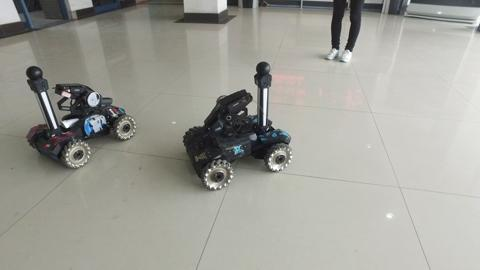chariot: (180, 61, 300, 193), (21, 62, 138, 175)
